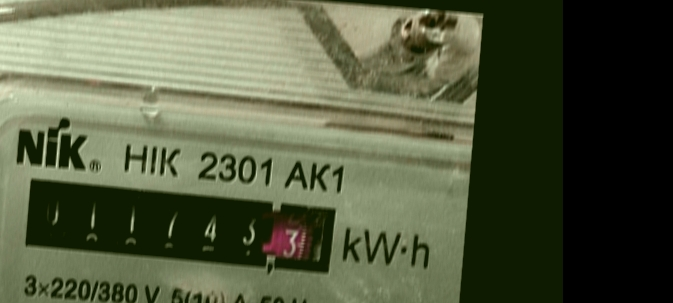0: (43, 192, 64, 230)
1: (125, 200, 143, 235), (89, 197, 101, 231)
3: (239, 213, 260, 249), (282, 228, 302, 263)
4: (202, 210, 222, 245)
7: (163, 205, 184, 241)
screen: (11, 167, 351, 289)
